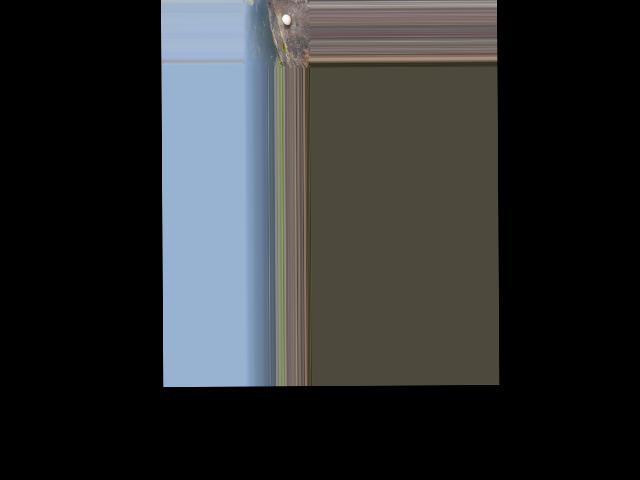egg: (282, 13, 291, 24)
